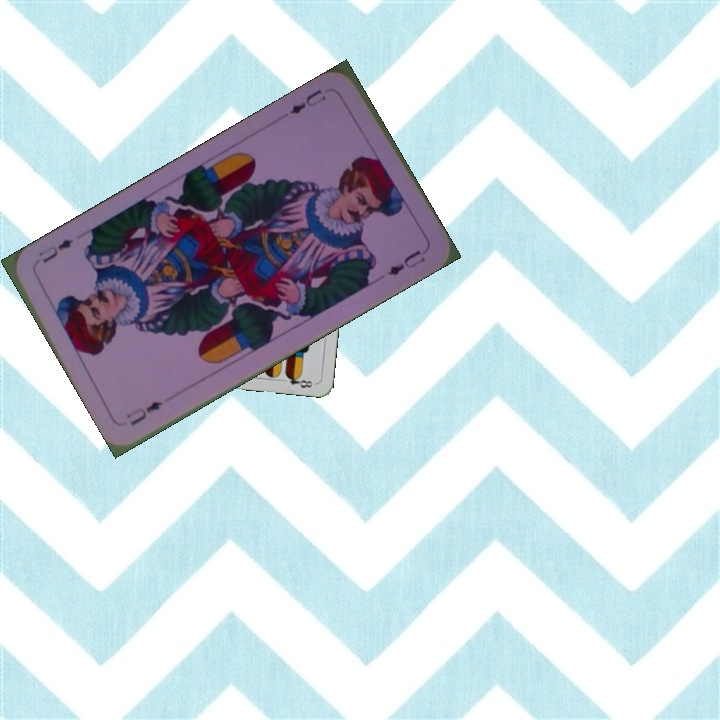EU: (285, 85, 329, 117), (122, 397, 165, 429)
